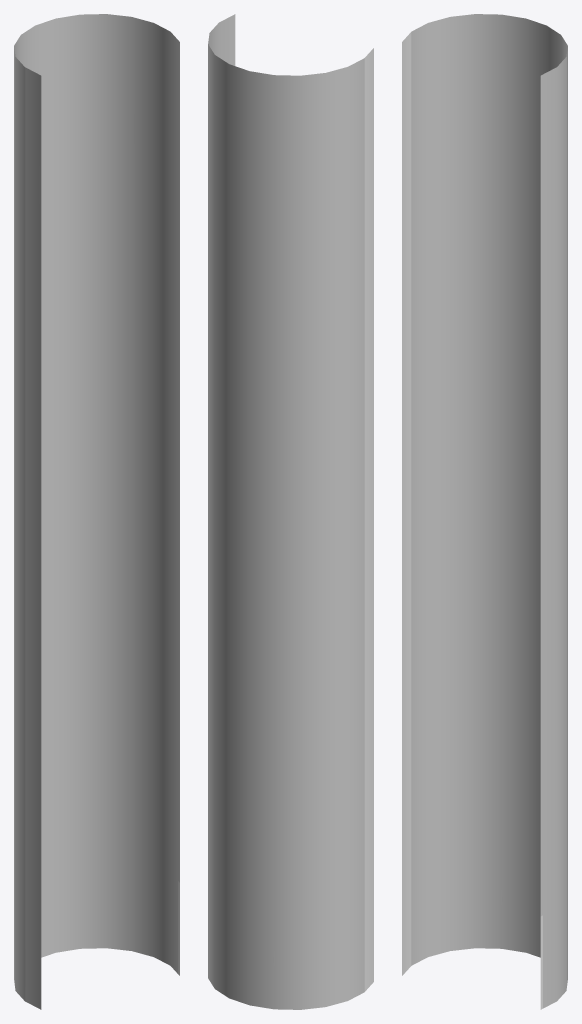
File: sunray.fbx
3 renders of one model, left to right at view 1: azimuth 30°, elevation 25°; view 2: azimuth 150°, elevation 25°; view 3: azimuth 330°, elevation 25°, orthographic.
Visible parts, largest first — view 1: pCylinder1; view 2: pCylinder1; view 3: pCylinder1.
Boxes of the visible parts, box(x1,y1,x2,y2) form: pCylinder1: box(14, 14, 179, 1009); pCylinder1: box(208, 14, 373, 1009); pCylinder1: box(402, 14, 567, 1009).
Bounding box in the file's own units: 3.32 × 20.35 × 2.17.
Materials: 1 (1 with a texture image).
